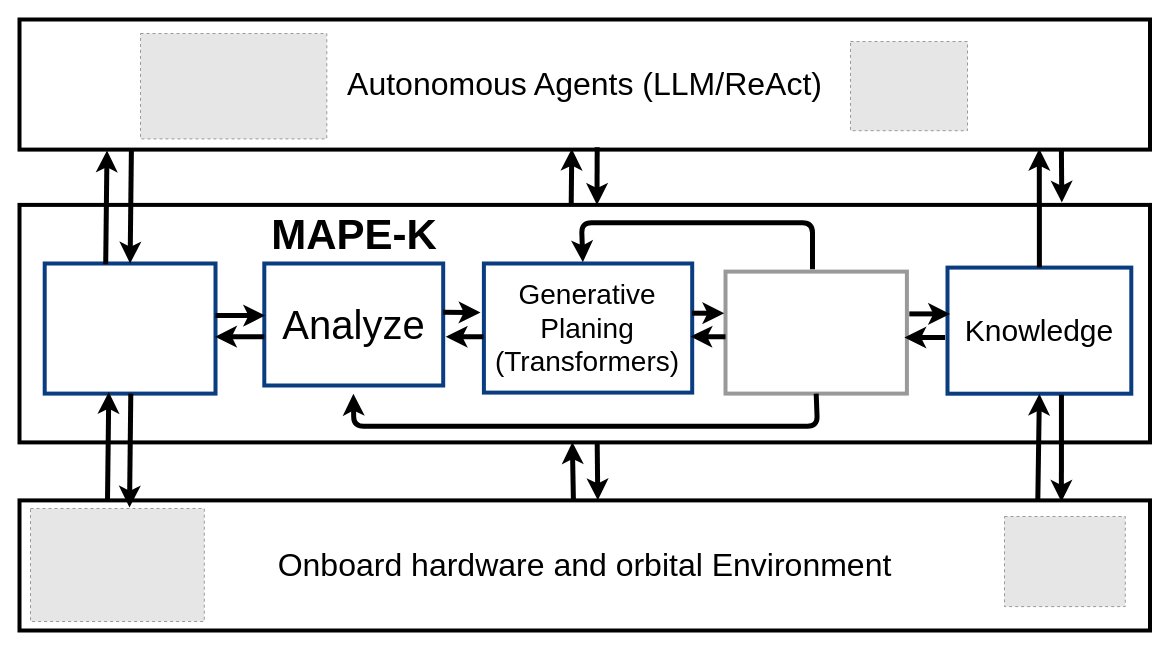
Image size: 1169x649. Some labels were removed from this diagram. Grey dashed boxes stand in for pictures. Each missing label, with the centre of its shape:
"Monitor" goes at (x=129, y=328).
"Sequential Convex Programming" goes at (x=815, y=332).
